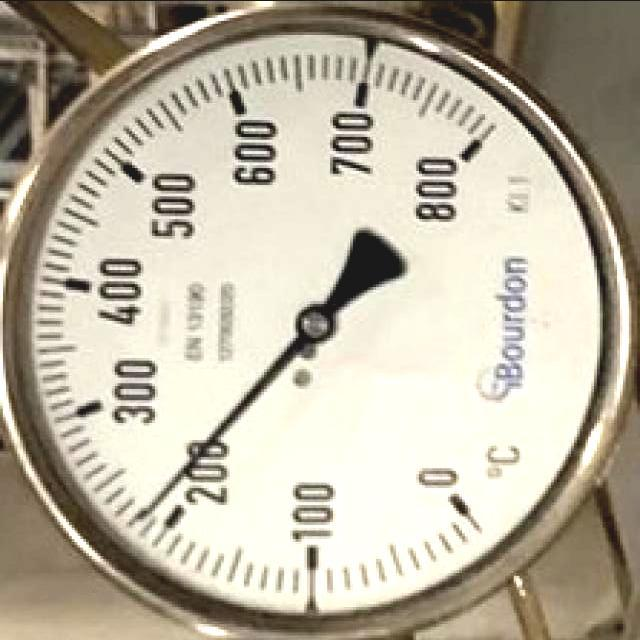Needle_Tip: (117, 468, 185, 539)
Needle_base: (285, 294, 348, 356)
max_value: (408, 144, 467, 236)
min_value: (402, 435, 472, 510)
